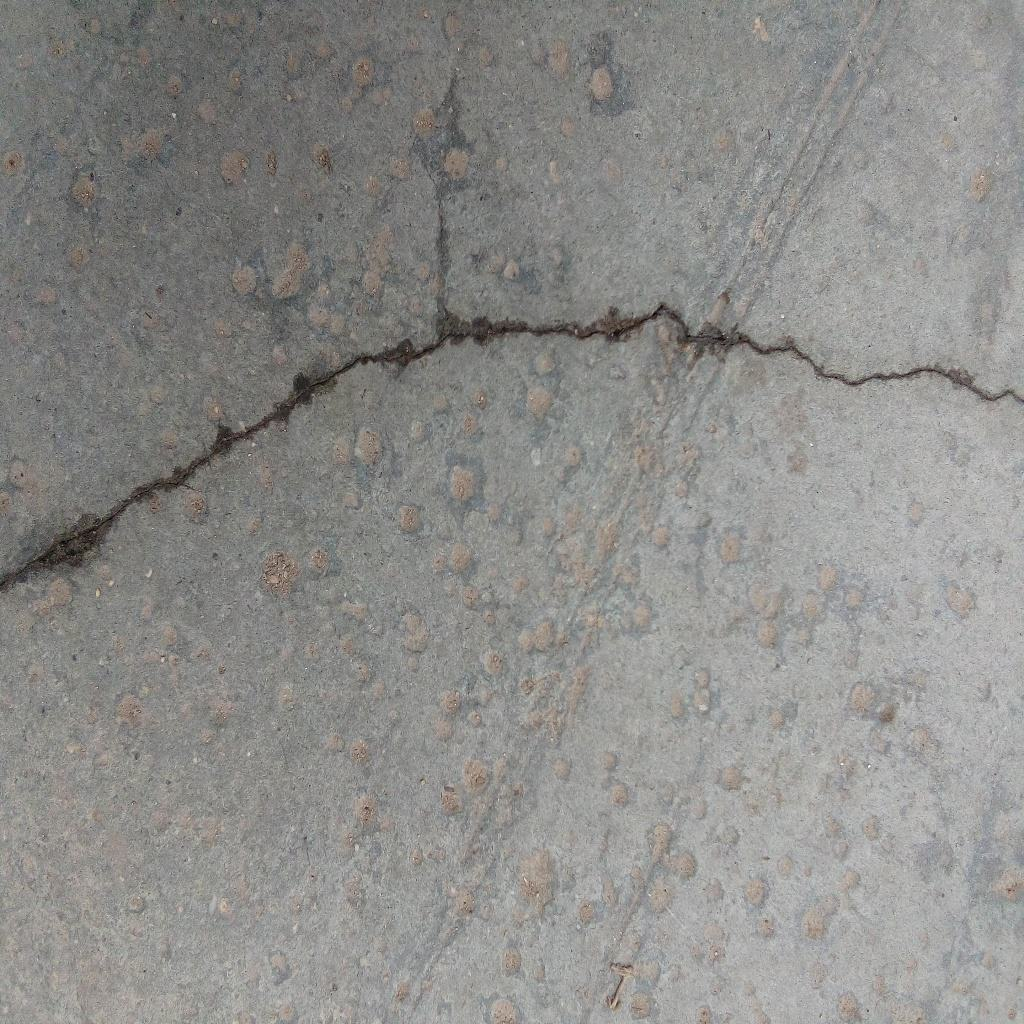Crack: (1, 299, 1024, 591)
